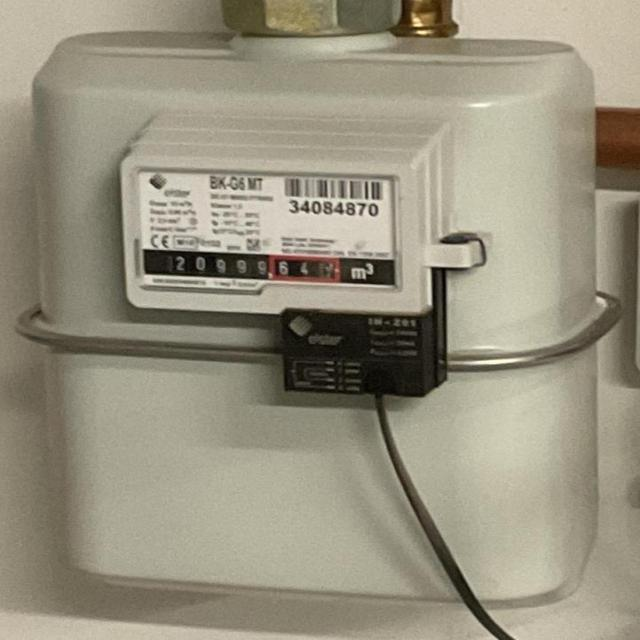gaz_meter: (132, 168, 399, 294)
indication: (143, 249, 343, 282)
